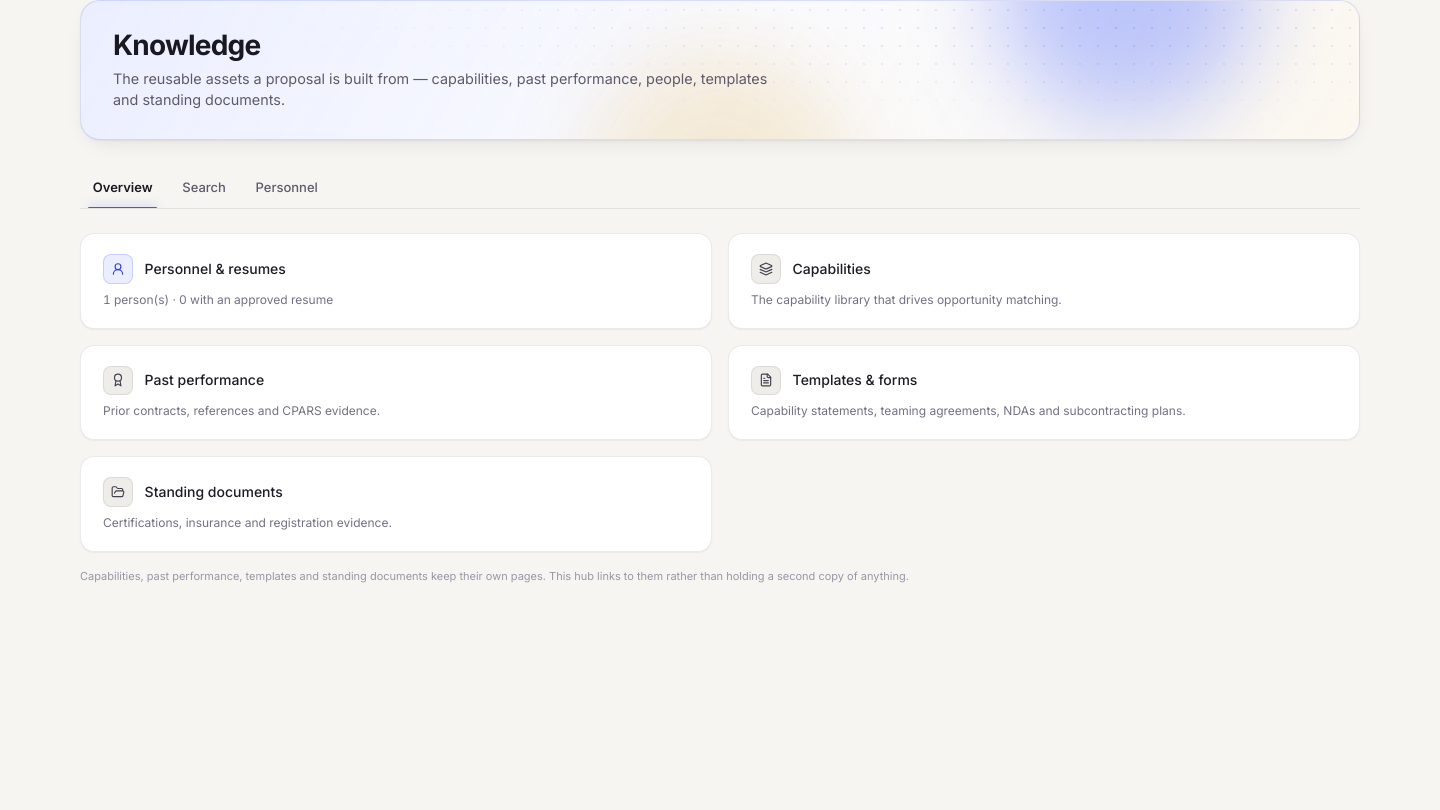
Test: Personnel list — finding the resume controls › says the person row opens their resume
What coordinates should you click on to do the following:
click the button "Personnel"
I would click on:
 (287, 188)
Its box is [243, 168, 331, 208].
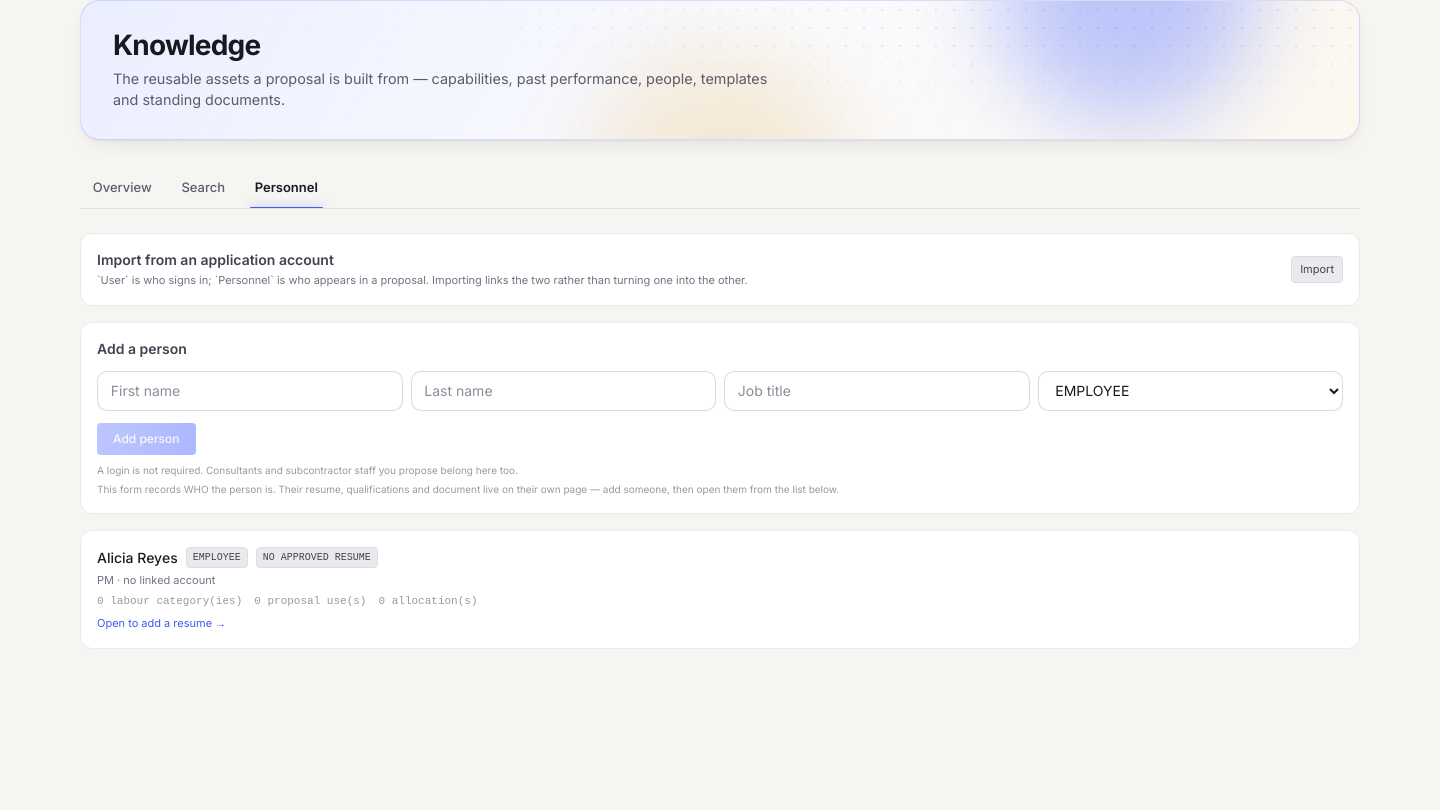
Check: the text "Open to add a resume →" is shown, box [97, 616, 226, 630]
